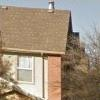Chimney: (40, 1, 60, 16)
